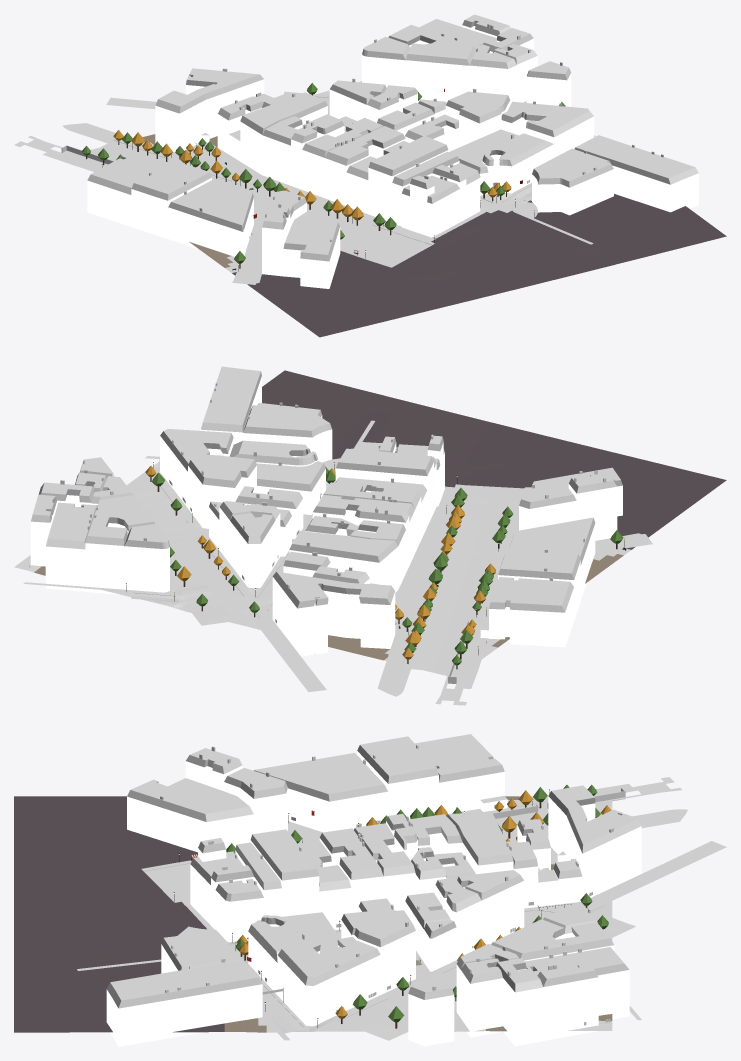
Rendered from zone_B1.glb.
3 views of the same model, one above another, from view 1: azimuth 30°, elevation 25°; view 2: azimuth 150°, elevation 25°; view 3: azimuth 270°, elevation 25° (orthographic). The views are drawn at different scales.
Visible parts, largest first — view 1: zone_B1_batiments, zone_B1_terrain, zone_B1_sol_NOCOL, zone_B1_decor_NOCOL; view 2: zone_B1_batiments, zone_B1_sol_NOCOL, zone_B1_terrain, zone_B1_decor_NOCOL; view 3: zone_B1_batiments, zone_B1_terrain, zone_B1_sol_NOCOL, zone_B1_decor_NOCOL.
Part boxes in pixels (x1,y1,x2,y2): zone_B1_batiments: [61, 14, 698, 288]; zone_B1_terrain: [90, 90, 726, 337]; zone_B1_sol_NOCOL: [14, 81, 593, 284]; zone_B1_decor_NOCOL: [82, 83, 594, 271]; zone_B1_batiments: [30, 366, 622, 683]; zone_B1_sol_NOCOL: [23, 420, 652, 705]; zone_B1_terrain: [14, 370, 726, 675]; zone_B1_decor_NOCOL: [126, 462, 626, 669]; zone_B1_batiments: [106, 734, 641, 1046]; zone_B1_terrain: [14, 796, 612, 1032]; zone_B1_sol_NOCOL: [77, 777, 726, 1040]; zone_B1_decor_NOCOL: [173, 784, 611, 1028].
Bounding box in the file's own units: 229 × 28.28 × 254.
